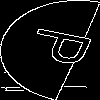P: (25, 25, 100, 71)
